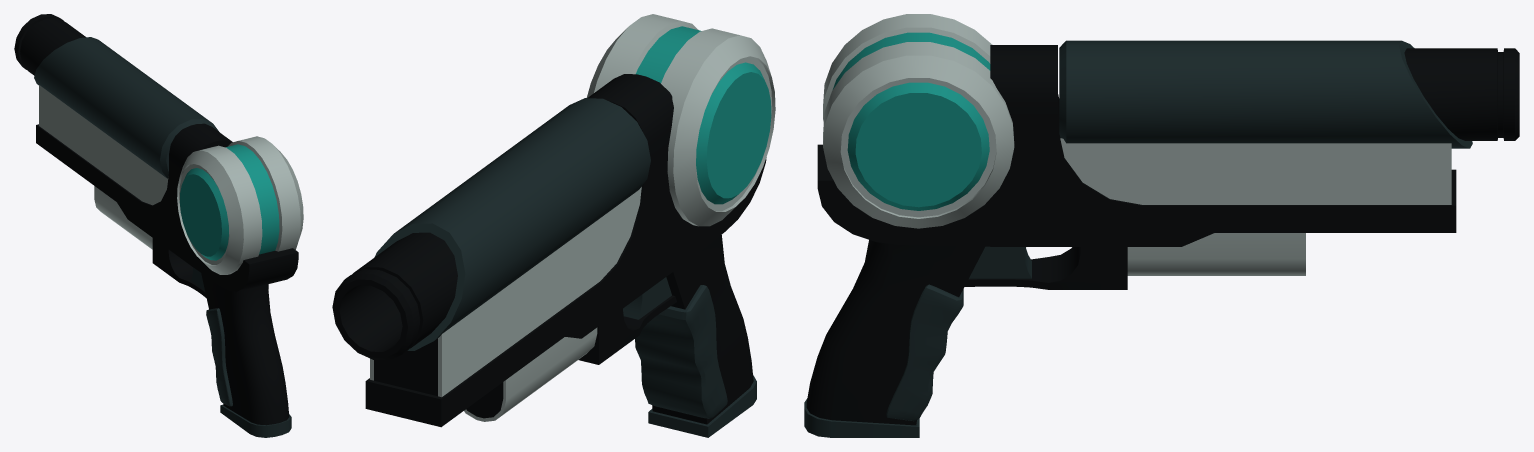
Rendered from arc-emitter.glb.
The picture shows the model from 3 angles, left to right: view 1: azimuth 30°, elevation 25°; view 2: azimuth 150°, elevation 25°; view 3: azimuth 270°, elevation 25°; orthographic projection. The views are drawn at different scales.
Visible parts, largest first — view 1: Pistol_1; view 2: Pistol_1; view 3: Pistol_1.
Boxes of the visible parts, x1,y1,x2,y2 form: Pistol_1: (14, 14, 303, 437); Pistol_1: (332, 14, 775, 437); Pistol_1: (804, 14, 1519, 437).
Bounding box in the file's own units: 0.1782 × 0.5605 × 0.9344.
